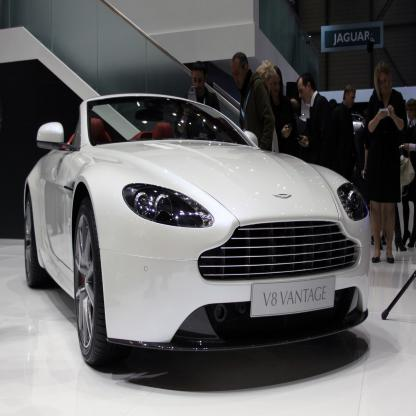Vehicle: (23, 94, 372, 370)
